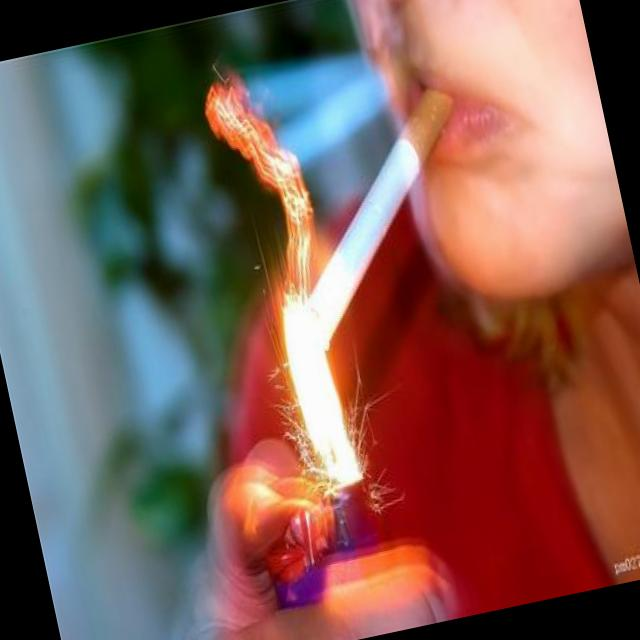smoke: (236, 75, 497, 349)
